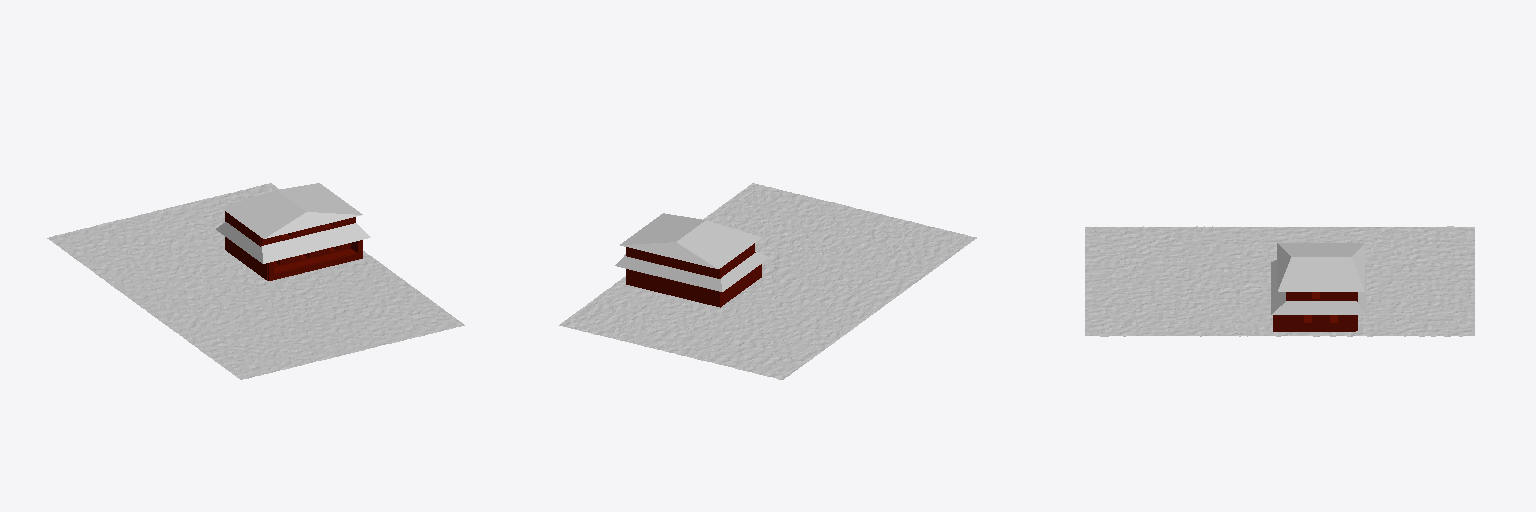
The model's file is house.obj.
3 views of the same model, side by side, from view 1: azimuth 30°, elevation 25°; view 2: azimuth 150°, elevation 25°; view 3: azimuth 270°, elevation 25° (orthographic).
Parts seen in each view (by area): view 1: hd-wallpaper-ga4455ac3d_1920, Roof_village_Plane, Structure_village_Cube; view 2: hd-wallpaper-ga4455ac3d_1920, Roof_village_Plane, Structure_village_Cube; view 3: hd-wallpaper-ga4455ac3d_1920, Roof_village_Plane, Structure_village_Cube.
Boxes of the visible parts, box(x1,y1,x2,y2) form: hd-wallpaper-ga4455ac3d_1920: box(47, 183, 464, 379); Roof_village_Plane: box(216, 183, 370, 263); Structure_village_Cube: box(225, 211, 362, 280); hd-wallpaper-ga4455ac3d_1920: box(559, 183, 976, 379); Roof_village_Plane: box(615, 213, 769, 291); Structure_village_Cube: box(626, 243, 761, 307); hd-wallpaper-ga4455ac3d_1920: box(1085, 226, 1474, 336); Roof_village_Plane: box(1271, 243, 1365, 314); Structure_village_Cube: box(1273, 292, 1357, 331).
Bounding box in the file's own units: 100 × 22.37 × 151.